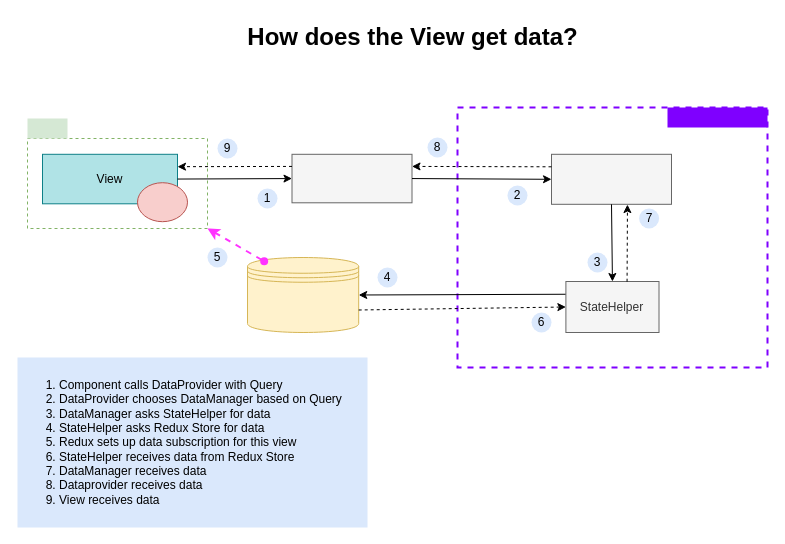
Image size: 785x544. Some labels were removed from this diagram. The shapes that lost their labels are listed below. From the top down, each one's centre as x and y in pixels, then its label:
point 47,128: React
point 717,117: 1 for each entity
point 351,178: DataProvider
point 611,178: DataManager
point 162,202: Query
point 302,294: Redux Store
